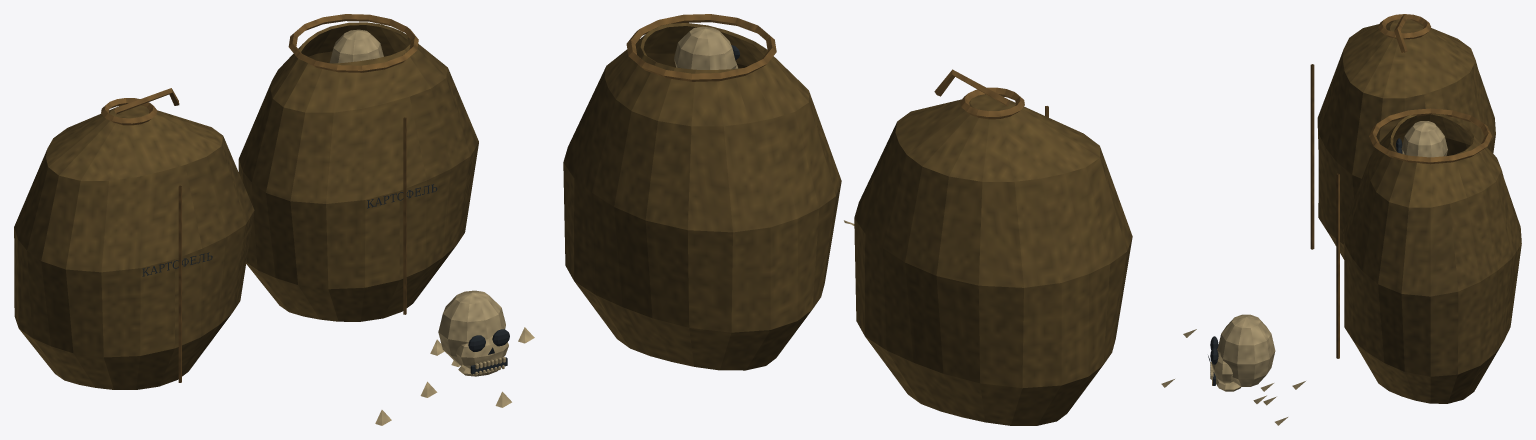
File: potato_sacks.glb
3 renders of one model, left to right at view 1: azimuth 30°, elevation 25°; view 2: azimuth 150°, elevation 25°; view 3: azimuth 270°, elevation 25°, orthographic. The views are drawn at different scales.
Parts seen in each view (by area): view 1: potato_sacks; view 2: potato_sacks; view 3: potato_sacks.
Boxes of the visible parts, <box> form: potato_sacks: <box>14,14,534,425</box>; potato_sacks: <box>563,14,1132,425</box>; potato_sacks: <box>1161,14,1521,425</box>.
Bounding box in the file's own units: 1.34 × 0.7803 × 0.9763.
4 materials, 3 textured.
